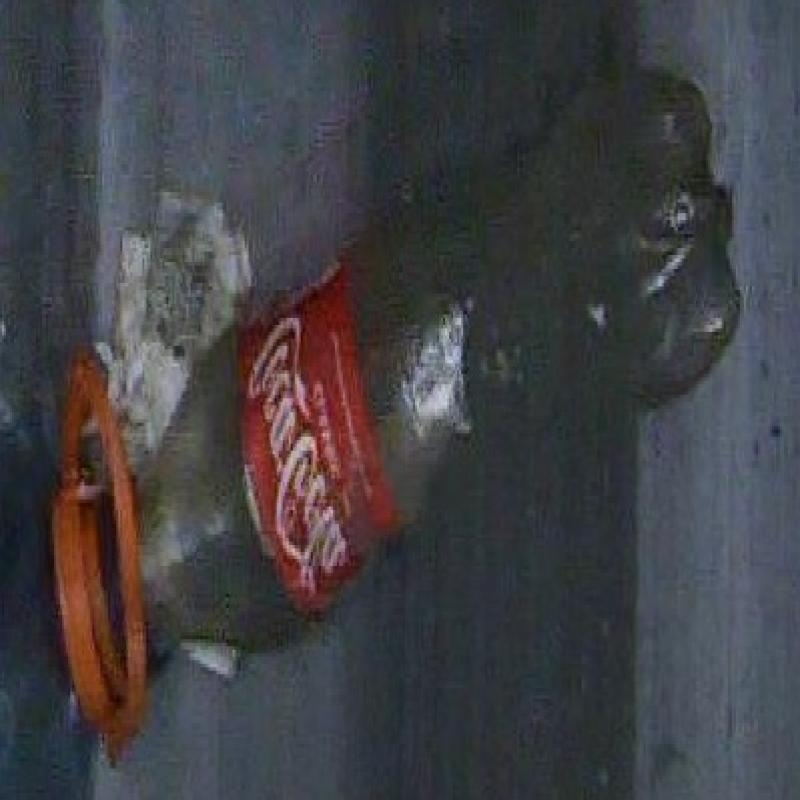botella: (52, 40, 744, 800)
